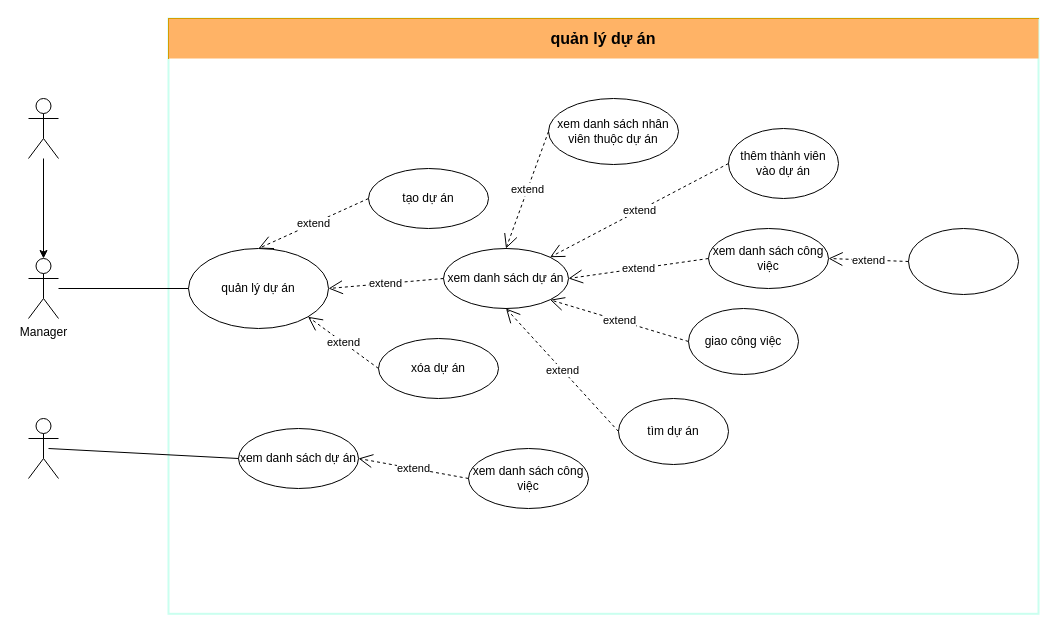
The diagram is 1057 pixels wide and 632 high, and some of its shapes have lost their labels. The shapes that lost their labels are listed below. From the top down, each one's box as (x1, y1, x2, y2) in pixels, then its label:
(28, 98, 58, 158): Admin
(908, 228, 1018, 294): cập nhật công việc
(28, 418, 58, 478): Employee
